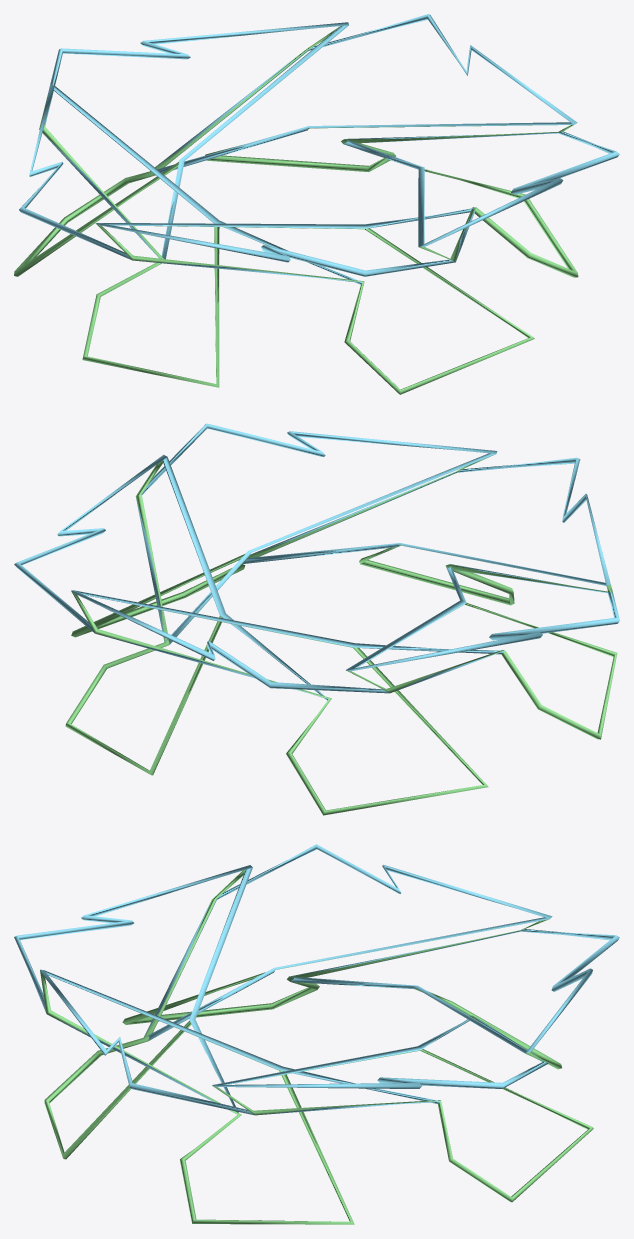
File: MapD1.glb
3 renders of one model, top to bottom at view 1: azimuth 30°, elevation 25°; view 2: azimuth 150°, elevation 25°; view 3: azimuth 270°, elevation 25°, orthographic. The views are drawn at different scales.
Visible parts, largest first — view 1: RegularMap_D; view 2: RegularMap_D; view 3: RegularMap_D.
Part boxes in pixels (x1,y1,x2,y2): RegularMap_D: (14, 14, 619, 394); RegularMap_D: (14, 423, 619, 815); RegularMap_D: (14, 844, 619, 1224).
Size of the model in its own units: 4.67 by 1.27 by 4.73.
